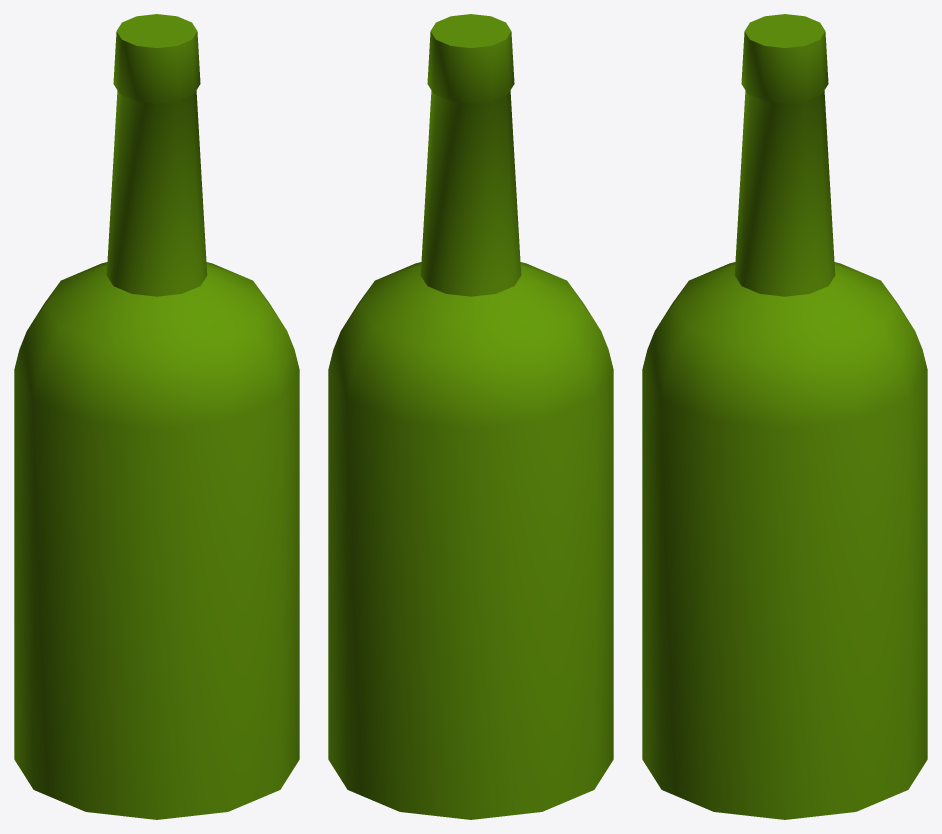
Rendered from Bouteille.FBX.
The picture shows the model from 3 angles, left to right: view 1: azimuth 30°, elevation 25°; view 2: azimuth 150°, elevation 25°; view 3: azimuth 270°, elevation 25°; orthographic projection.
Parts seen in each view (by area): view 1: bouteille; view 2: bouteille; view 3: bouteille.
Part boxes in pixels (x1,y1,x2,y2): bouteille: (14, 14, 299, 819); bouteille: (328, 14, 613, 819); bouteille: (642, 14, 927, 819).
Bounding box in the file's own units: 0.1586 × 0.1586 × 0.4475.
